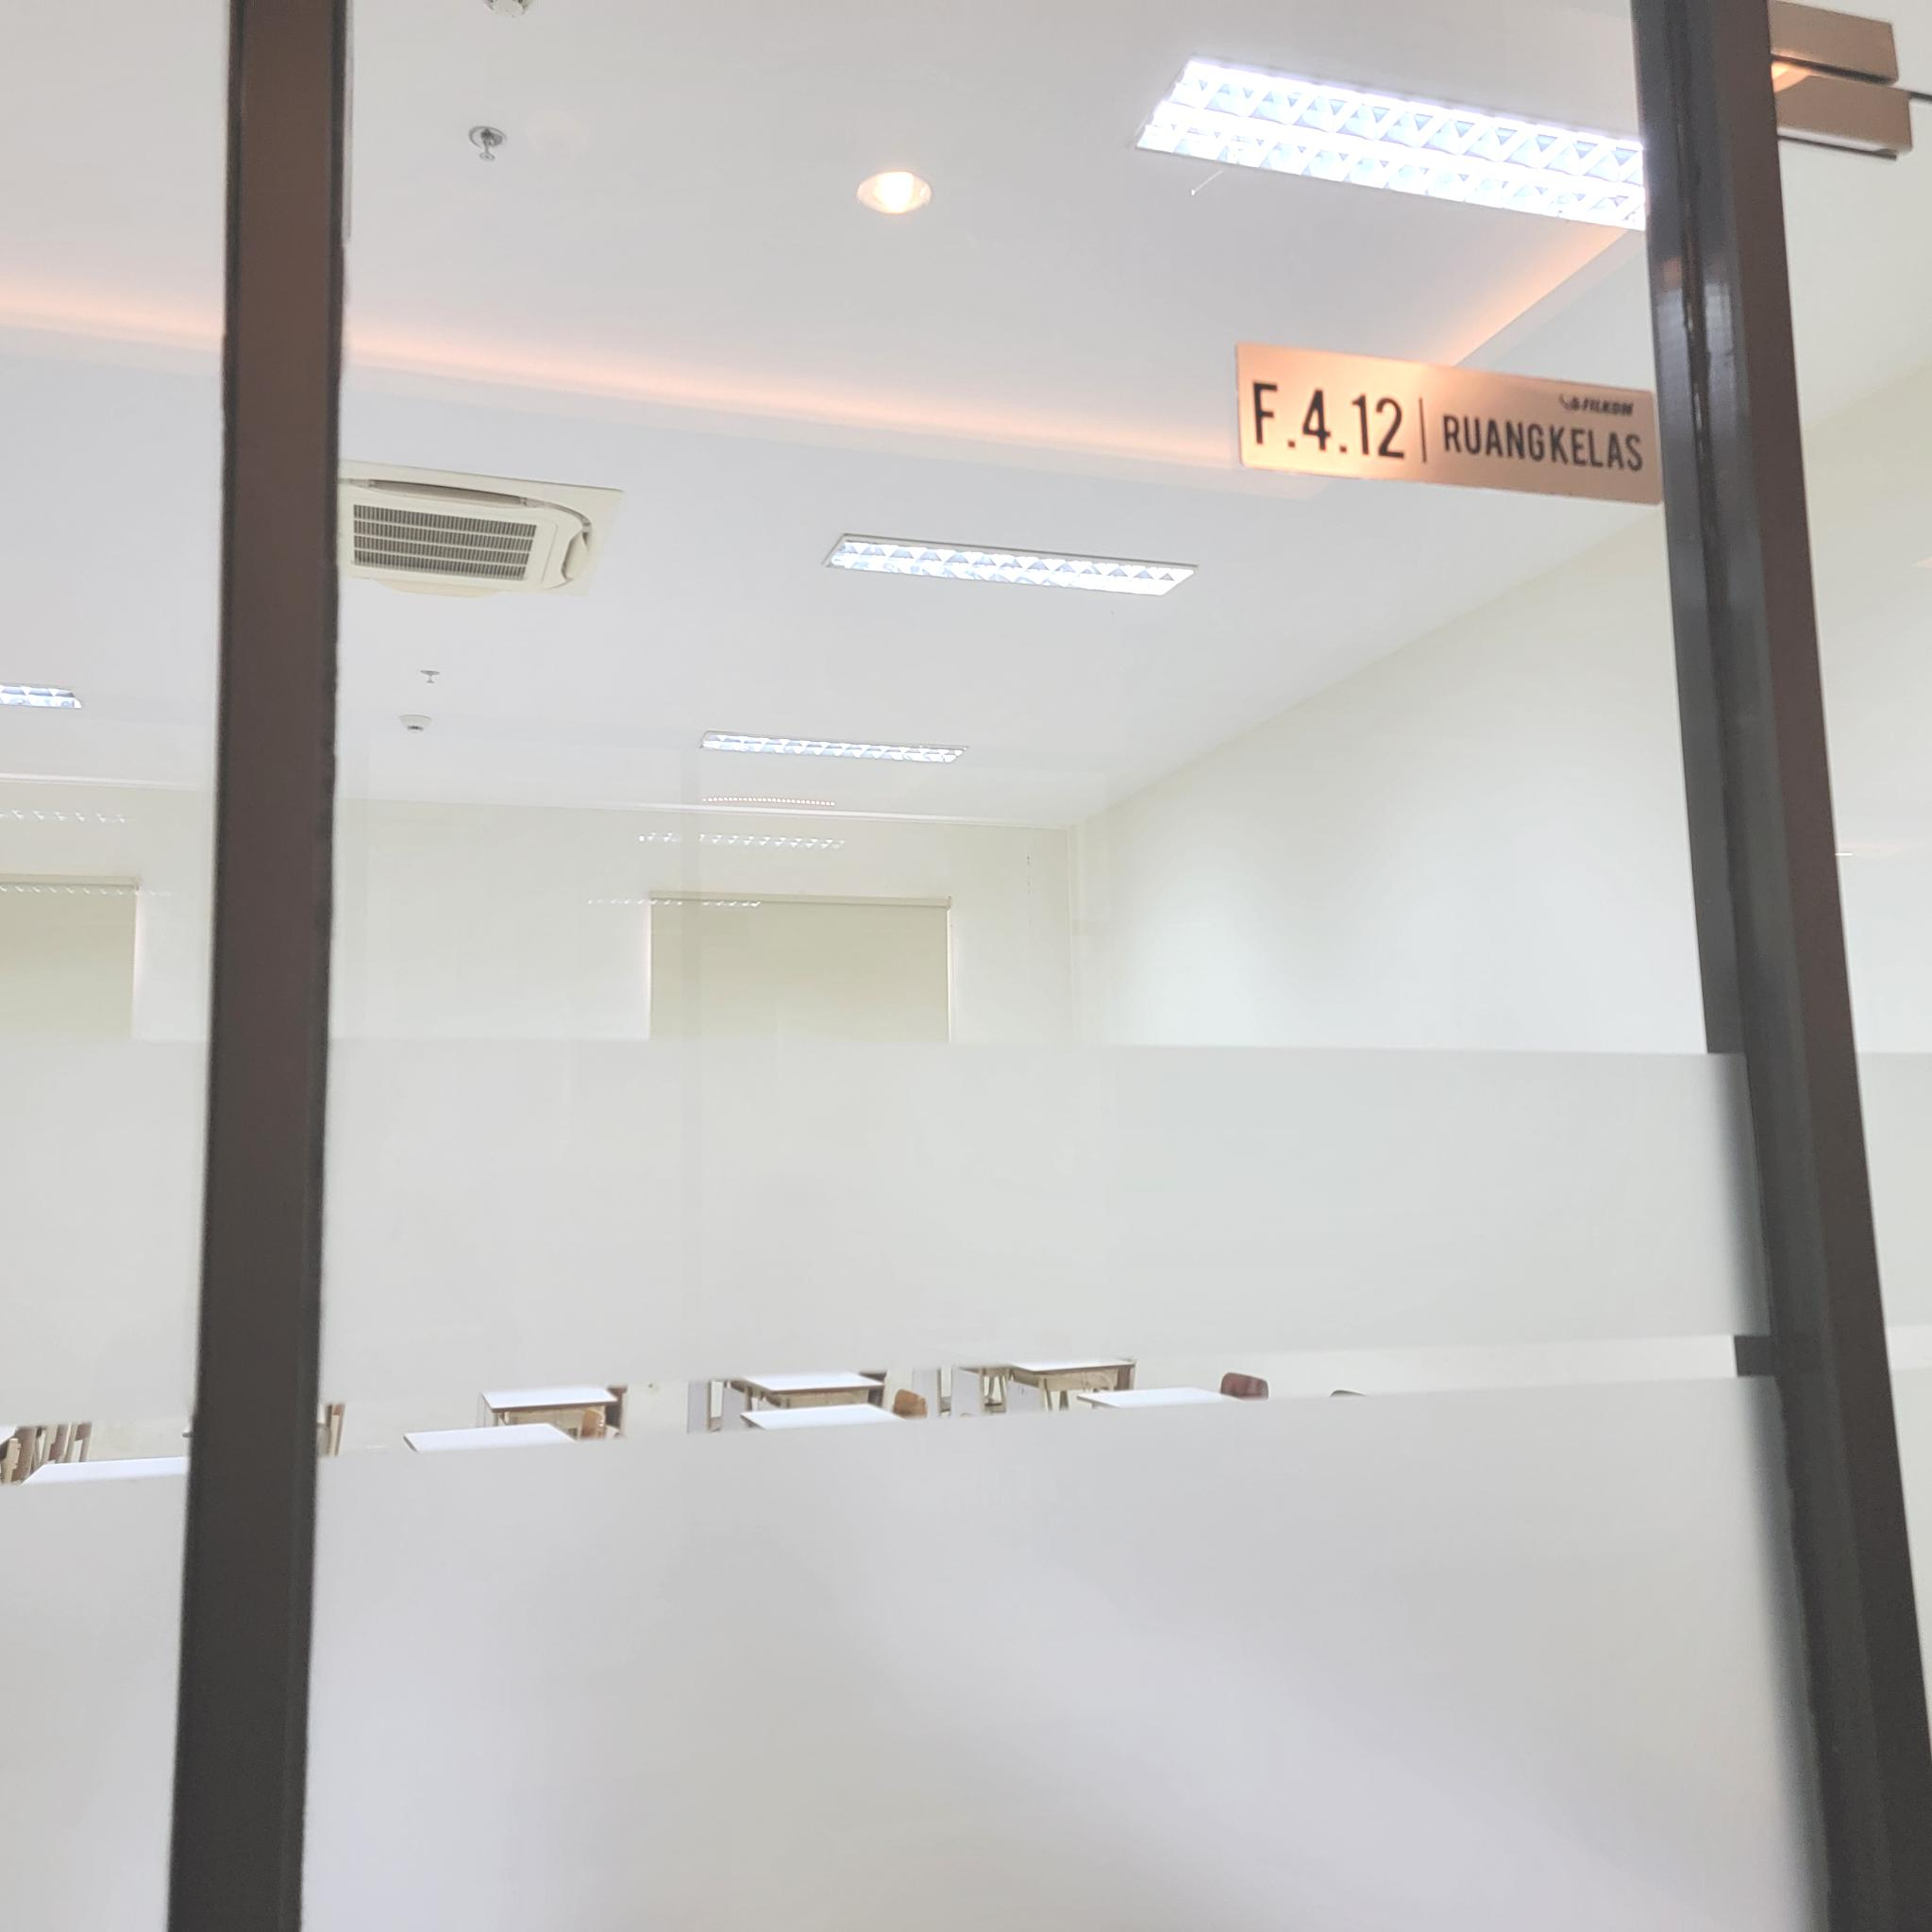plate: (1235, 340, 1663, 508)
